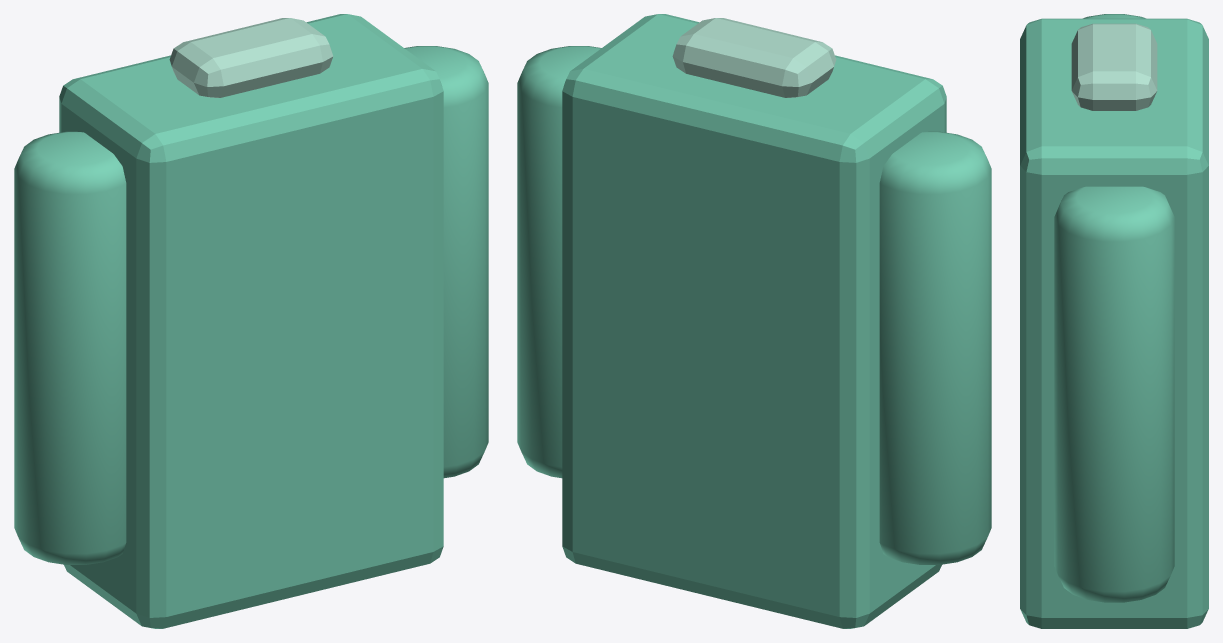
Rendered from VM-CAB-FS4.glb.
3 renders of one model, left to right at view 1: azimuth 30°, elevation 25°; view 2: azimuth 150°, elevation 25°; view 3: azimuth 270°, elevation 25°, orthographic. The views are drawn at different scales.
Visible parts, largest first — view 1: Prenda Hombre Casual Slim; view 2: Prenda Hombre Casual Slim; view 3: Prenda Hombre Casual Slim.
Boxes of the visible parts, x1,y1,x2,y2 form: Prenda Hombre Casual Slim: (14, 14, 488, 628); Prenda Hombre Casual Slim: (517, 14, 991, 628); Prenda Hombre Casual Slim: (1020, 14, 1208, 628).
Bounding box in the file's own units: 0.6077 × 0.676 × 0.2236.
